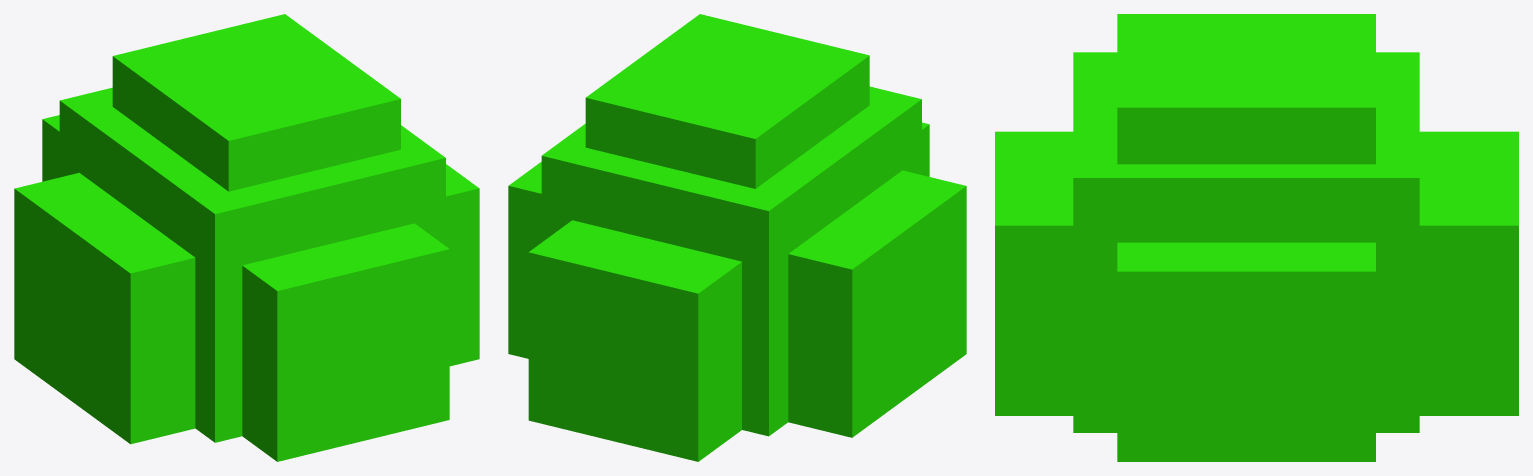
File: bush2.FBX
3 views of the same model, side by side, from view 1: azimuth 30°, elevation 25°; view 2: azimuth 150°, elevation 25°; view 3: azimuth 270°, elevation 25° (orthographic). The views are drawn at different scales.
Parts seen in each view (by area): view 1: bush2; view 2: bush2; view 3: bush2.
Boxes of the visible parts, x1,y1,x2,y2 form: bush2: (14,14,479,461); bush2: (508,14,966,461); bush2: (995,14,1518,461).
Bounding box in the file's own units: 3.62 × 2.77 × 4.22.
